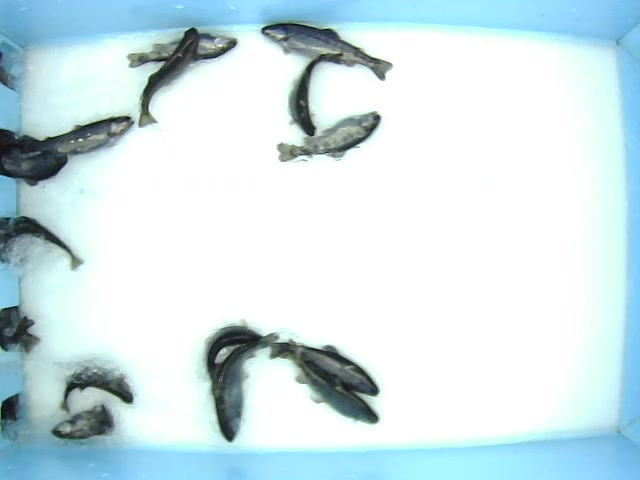fish: (275, 336, 379, 426), (211, 328, 281, 445), (259, 21, 393, 82), (267, 339, 381, 399), (137, 24, 199, 128), (277, 112, 381, 166), (202, 318, 269, 395), (285, 51, 344, 138), (30, 111, 134, 156), (56, 359, 135, 414), (125, 31, 238, 69), (49, 403, 117, 441)
